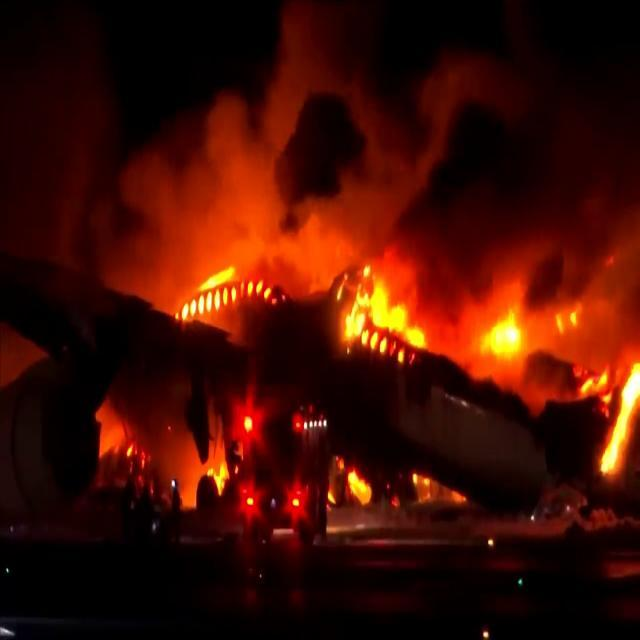Fire: (336, 260, 426, 360), (175, 252, 275, 326), (588, 344, 640, 482), (208, 396, 258, 514), (473, 298, 535, 372), (326, 452, 374, 514)
Smoke: (109, 1, 640, 308)
